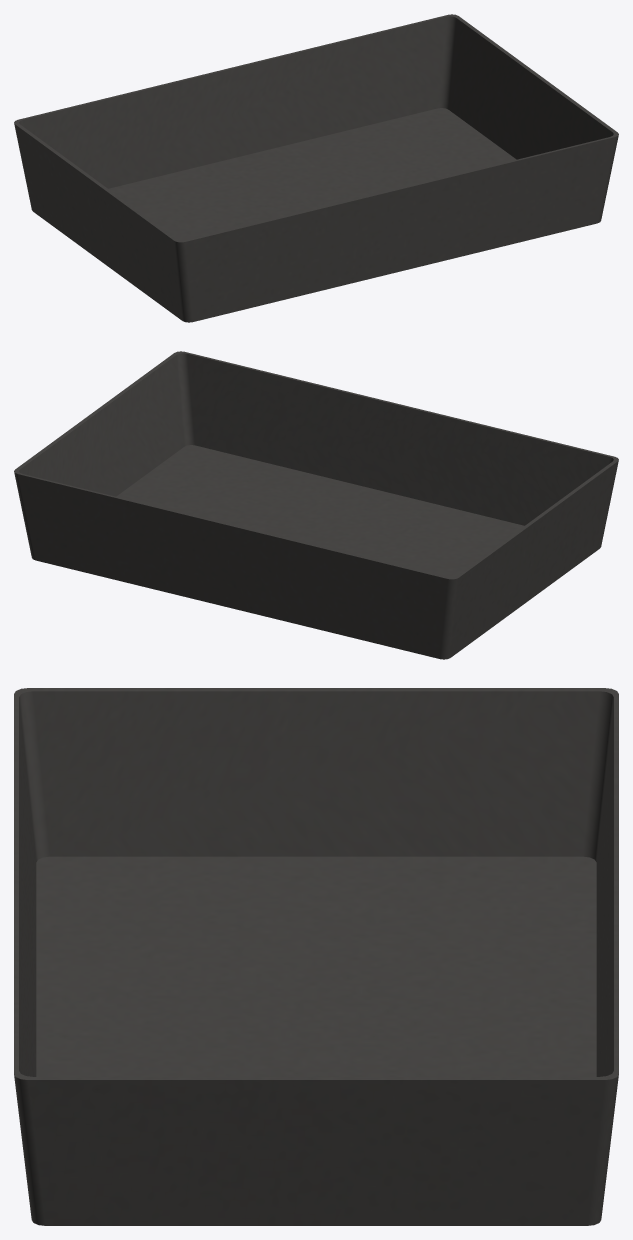
Rendered from AAH_tray.glb.
The picture shows the model from 3 angles, top to bottom: view 1: azimuth 30°, elevation 25°; view 2: azimuth 150°, elevation 25°; view 3: azimuth 270°, elevation 25°; orthographic projection. The views are drawn at different scales.
Visible parts, largest first — view 1: tray_uv; view 2: tray_uv; view 3: tray_uv.
Part boxes in pixels (box(x1,y1,x2,y2)): tray_uv: box(14, 14, 618, 322); tray_uv: box(14, 351, 618, 659); tray_uv: box(14, 688, 618, 1225).
Bounding box in the file's own units: 15.06 × 2.82 × 9.82.
Materials: 1 (1 with a texture image).
